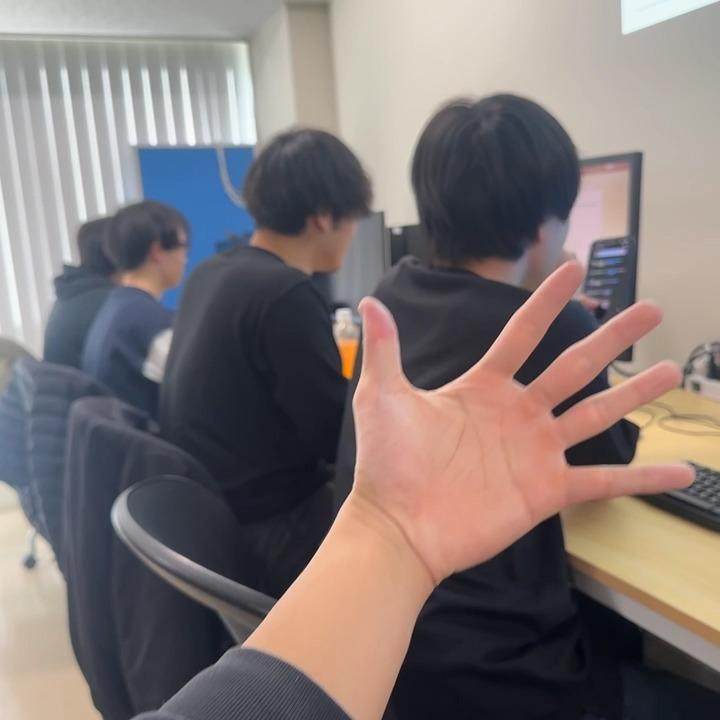without_gloves: (282, 203, 720, 670)
